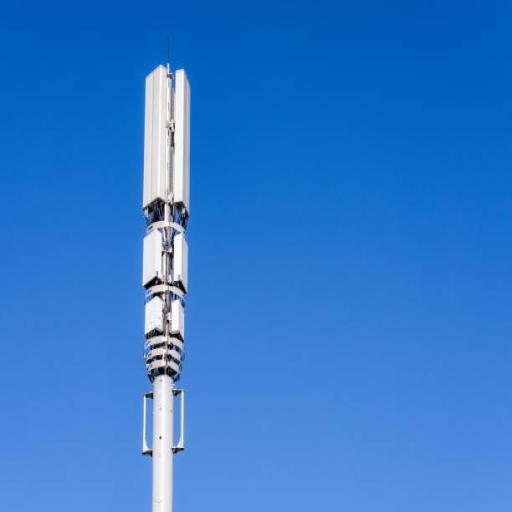monopole_tower: (140, 31, 190, 512)
